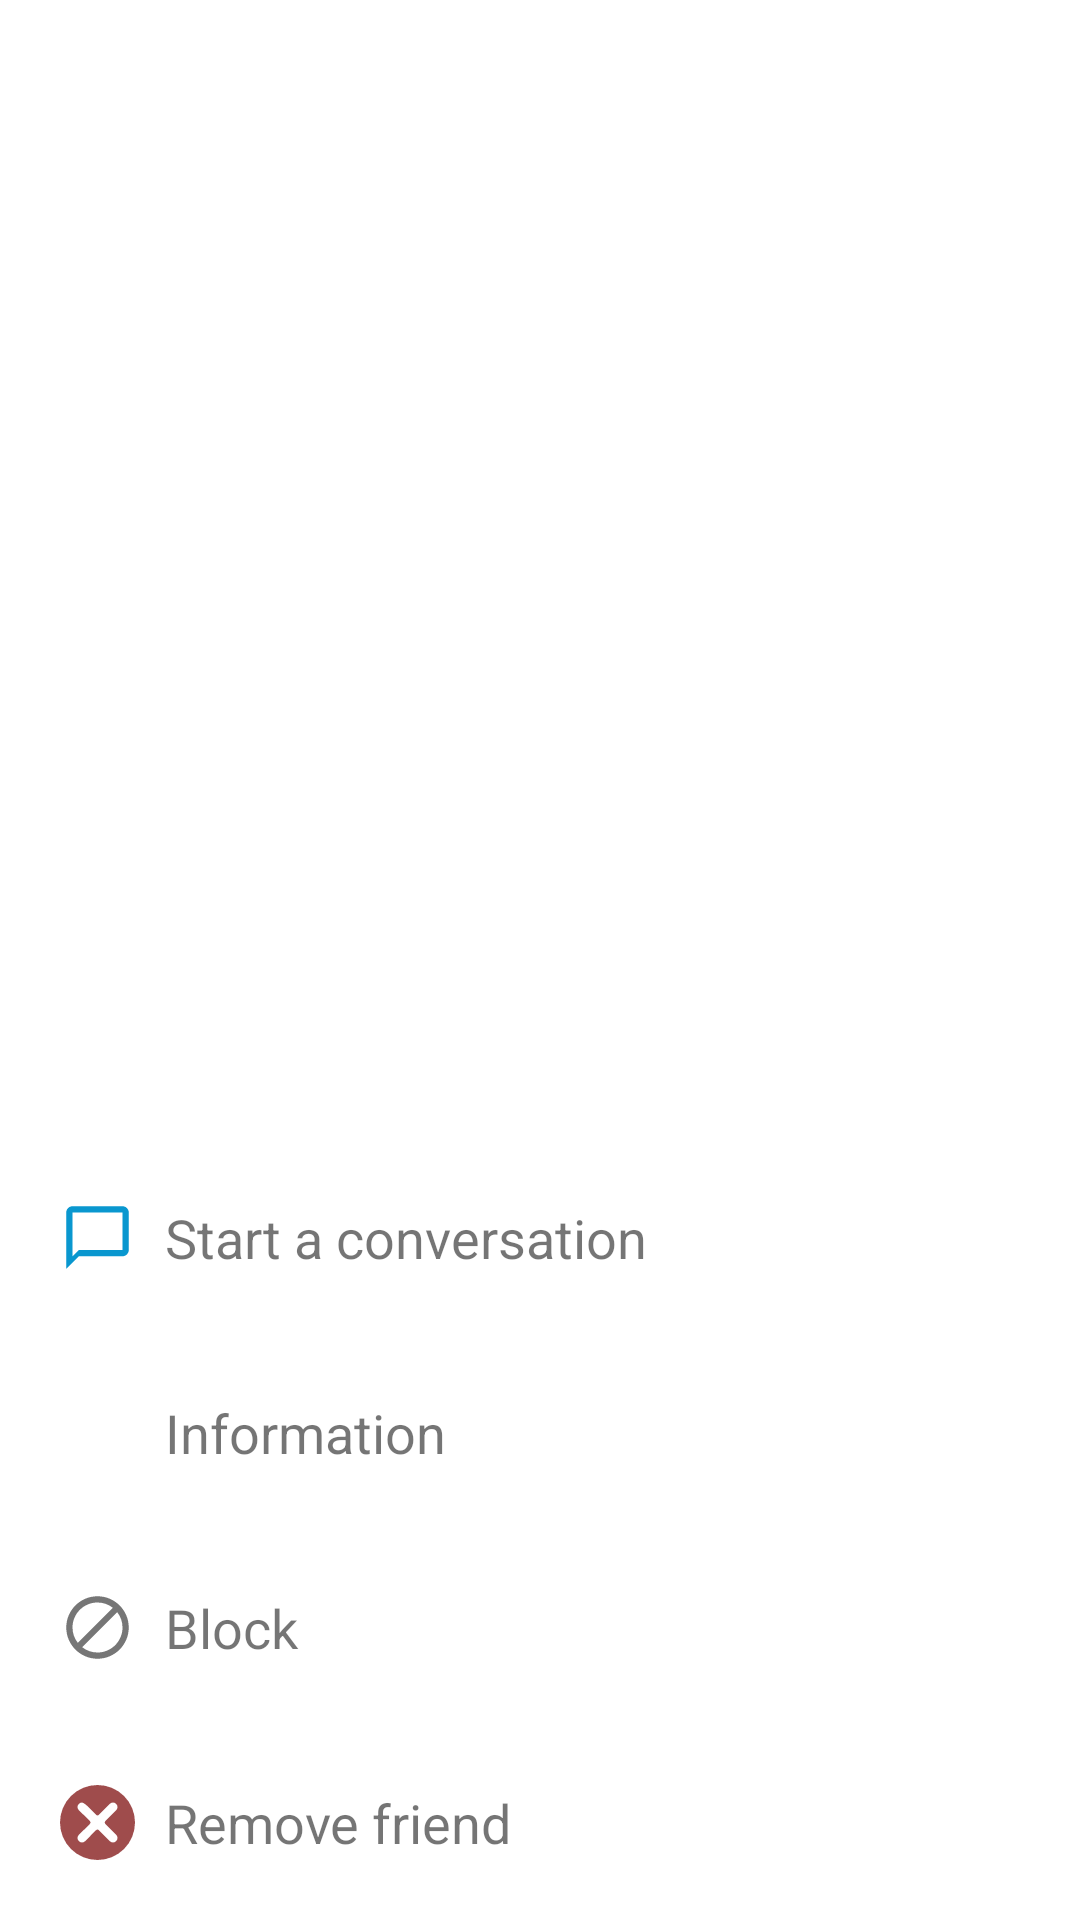

Point at icon controls on the screen. Image size 1080 × 1920, points as (x,y).
chat bubble: (97,1237)
delete remove uncheck: (97,1822)
